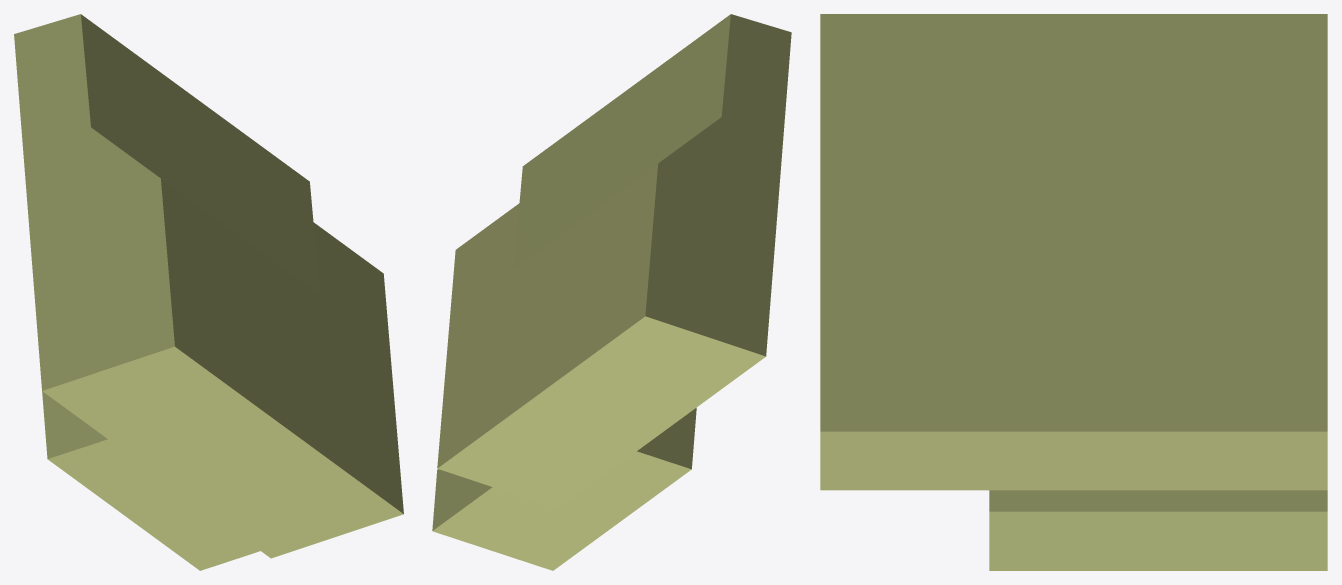
3 views of the same model, side by side, from view 1: azimuth 30°, elevation 25°; view 2: azimuth 150°, elevation 25°; view 3: azimuth 270°, elevation 25° (orthographic). The views are drawn at different scales.
Visible parts, largest first — view 1: 0_2_3_3_3_1_0_1_0_2; view 2: 0_2_3_3_3_1_0_1_0_2; view 3: 0_2_3_3_3_1_0_1_0_2.
Boxes of the visible parts, x1=… form: 0_2_3_3_3_1_0_1_0_2: x1=14, y1=14, x2=403, y2=570; 0_2_3_3_3_1_0_1_0_2: x1=432, y1=14, x2=791, y2=570; 0_2_3_3_3_1_0_1_0_2: x1=820, y1=14, x2=1327, y2=570.
Size of the model in its own units: 3.78 by 9.48 by 9.
